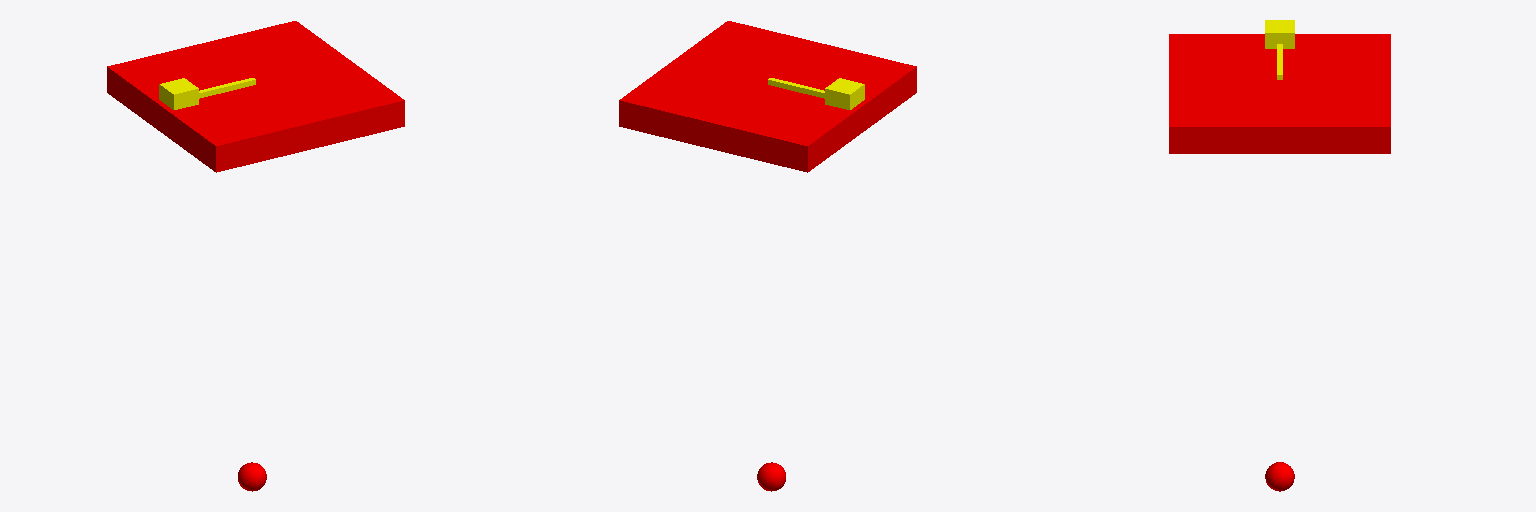
URDF robot description (test):
<?xml version="1.0" ?>
<robot name="test">
  <link name="foot_1">
    <visual name="foot_1_visual">
      <origin xyz="0 0 0" rpy="0 0 0"/>
      <geometry>
        <mesh filename="meshes/foot_1.stl"/>
      </geometry>
      <material name="foot_1-material">
        <color rgba="1 0 0 1"/>
      </material>
    </visual>
    <collision name="foot_1_collision">
      <origin xyz="0 0 0" rpy="0 0 0"/>
      <geometry>
        <mesh filename="meshes/foot_1.stl"/>
      </geometry>
    </collision>
    <inertial>
      <mass value="1.4241887"/>
      <inertia ixx="0.0014241887" iyy="0.0014241887" izz="0.0014241887" ixy="0" ixz="0" iyz="0"/>
      <origin xyz="0 0 0" rpy="0 0 0"/>
    </inertial>
  </link>
  <link name="pendulum_1">
    <visual name="pendulum_1_visual">
      <origin xyz="0 0 0" rpy="0 0 0"/>
      <geometry>
        <mesh filename="meshes/pendulum_1.stl"/>
      </geometry>
      <material name="pendulum_1-material">
        <color rgba="1 1 0 1"/>
      </material>
    </visual>
    <collision name="pendulum_1_collision">
      <origin xyz="0 0 0" rpy="0 0 0"/>
      <geometry>
        <mesh filename="meshes/pendulum_1.stl"/>
      </geometry>
    </collision>
    <inertial>
      <mass value="0.097692192"/>
      <inertia ixx="6.0712005e-06" iyy="1.2285503e-05" izz="1.2285503e-05" ixy="0" ixz="0" iyz="0"/>
      <origin xyz="-0.045951673 0 -0.002" rpy="0 0 0"/>
    </inertial>
  </link>
  <link name="shell_com_1">
    <visual name="shell_com_1_visual">
      <origin xyz="0 0 0" rpy="0 0 0"/>
      <geometry>
        <mesh filename="meshes/shell_com_1.stl"/>
      </geometry>
      <material name="shell_com_1-material">
        <color rgba="1 0 0 1"/>
      </material>
    </visual>
    <collision name="shell_com_1_collision">
      <origin xyz="0 0 0" rpy="0 0 0"/>
      <geometry>
        <mesh filename="meshes/shell_com_1.stl"/>
      </geometry>
    </collision>
    <inertial>
      <mass value="0"/>
      <inertia ixx="0" iyy="0" izz="0" ixy="0" ixz="0" iyz="0"/>
      <origin xyz="-0.003 0 0.328" rpy="0 0 0"/>
    </inertial>
  </link>
  <joint name="Revolute_1" type="revolute">
    <origin xyz="0.002 0 0.298" rpy="3.1415927 0 0"/>
    <parent link="foot_1"/>
    <child link="pendulum_1"/>
    <axis xyz="0 0 -1"/>
    <limit effort="1" velocity="1" lower="-6.2831853" upper="6.2831853"/>
  </joint>
  <joint name="Fastened_1" type="fixed">
    <origin xyz="0.003 0 0.278" rpy="3.1415927 0 0"/>
    <parent link="foot_1"/>
    <child link="shell_com_1"/>
  </joint>
</robot>

--- Render facts (derived) ---
The picture shows the robot from 3 angles, left to right: view 1: azimuth 30°, elevation 25°; view 2: azimuth 150°, elevation 25°; view 3: azimuth 270°, elevation 25°; orthographic projection.
Model test with 3 links and 2 joints (1 revolute, 1 fixed), rooted at foot_1, posed all joints at 0.
Visible links, largest first — view 1: shell_com_1, pendulum_1, foot_1; view 2: shell_com_1, pendulum_1, foot_1; view 3: shell_com_1, pendulum_1, foot_1.
Link boxes in pixels (left/top/right/bottom): shell_com_1: left=107, top=21, right=404, bottom=172; pendulum_1: left=159, top=78, right=255, bottom=109; foot_1: left=238, top=462, right=266, bottom=491; shell_com_1: left=619, top=21, right=916, bottom=172; pendulum_1: left=768, top=78, right=864, bottom=109; foot_1: left=757, top=462, right=785, bottom=491; shell_com_1: left=1169, top=34, right=1390, bottom=153; pendulum_1: left=1265, top=20, right=1294, bottom=79; foot_1: left=1265, top=462, right=1294, bottom=491.
Bounding box of the posed robot: 0.15 × 0.15 × 0.32 m (x, y, z).
Meshes: 3 distinct files referenced, 3 mesh visuals loaded (3 binary STL).
